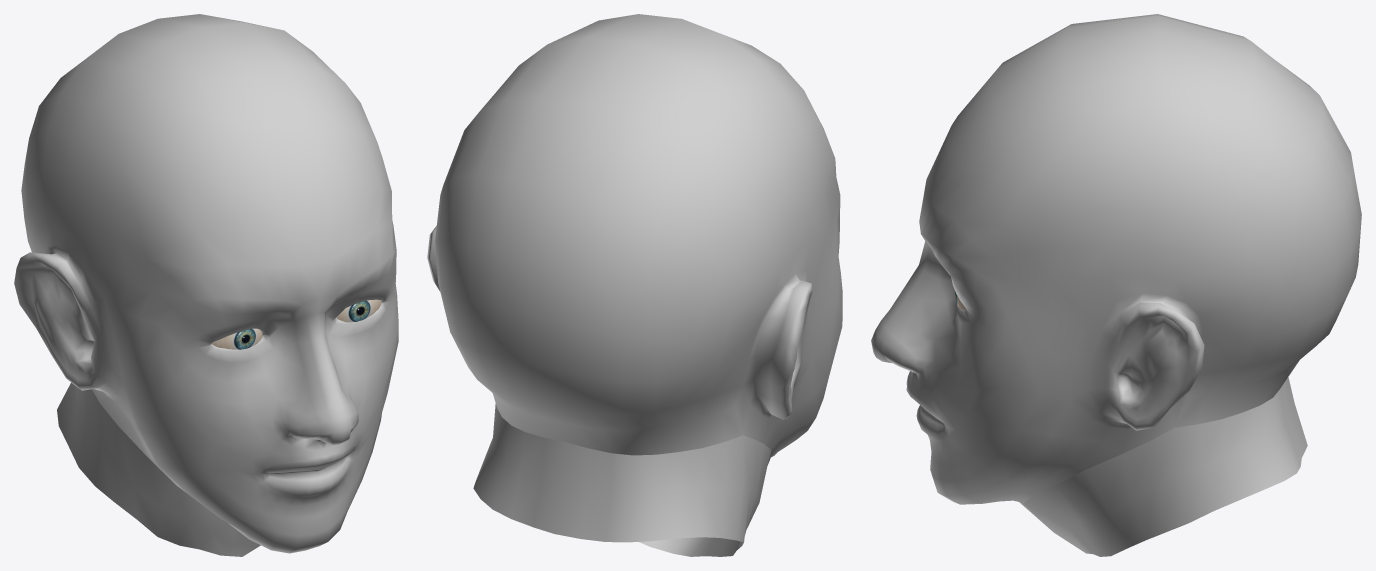
File: Head.fbx
The picture shows the model from 3 angles, left to right: view 1: azimuth 30°, elevation 25°; view 2: azimuth 150°, elevation 25°; view 3: azimuth 270°, elevation 25°; orthographic projection. The views are drawn at different scales.
Visible parts, largest first — view 1: Head, EyeRight, EyeLeft; view 2: Head; view 3: Head.
Part boxes in pixels (box(x1,y1,x2,y2)): Head: box(14, 14, 398, 556); EyeRight: box(212, 328, 262, 349); EyeLeft: box(337, 299, 381, 322); Head: box(427, 14, 842, 556); Head: box(871, 14, 1361, 556).
Size of the model in its own units: 17.45 by 24.18 by 20.84.
